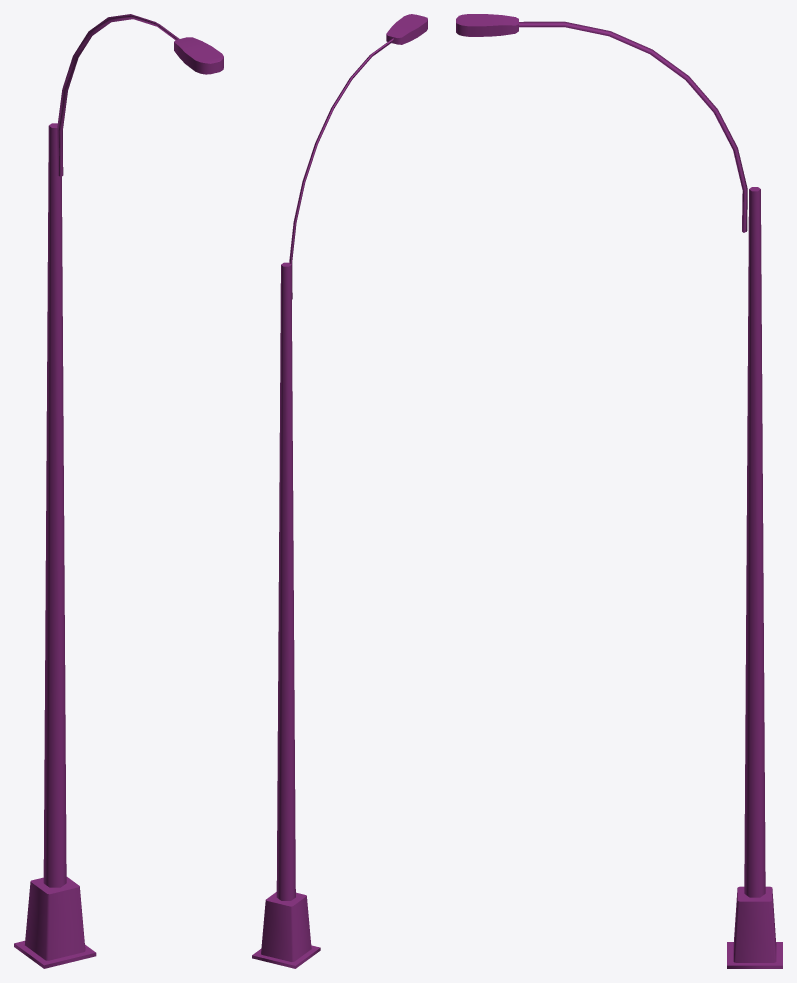
File: mcp_street_light_pole_01_LOD_1.FBX
The picture shows the model from 3 angles, left to right: view 1: azimuth 30°, elevation 25°; view 2: azimuth 150°, elevation 25°; view 3: azimuth 270°, elevation 25°; orthographic projection. The views are drawn at different scales.
Visible parts, largest first — view 1: mcp_street_light_pole_01; view 2: mcp_street_light_pole_01; view 3: mcp_street_light_pole_01.
Boxes of the visible parts, <box> form: mcp_street_light_pole_01: <box>14,14,223,968</box>; mcp_street_light_pole_01: <box>252,14,427,968</box>; mcp_street_light_pole_01: <box>456,14,782,968</box>.
Size of the model in its own units: 65.1 by 1204 by 381.
